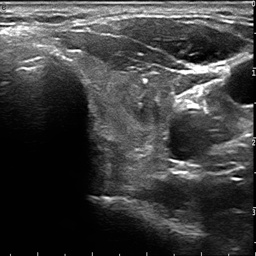mass: (110, 68, 172, 123)
